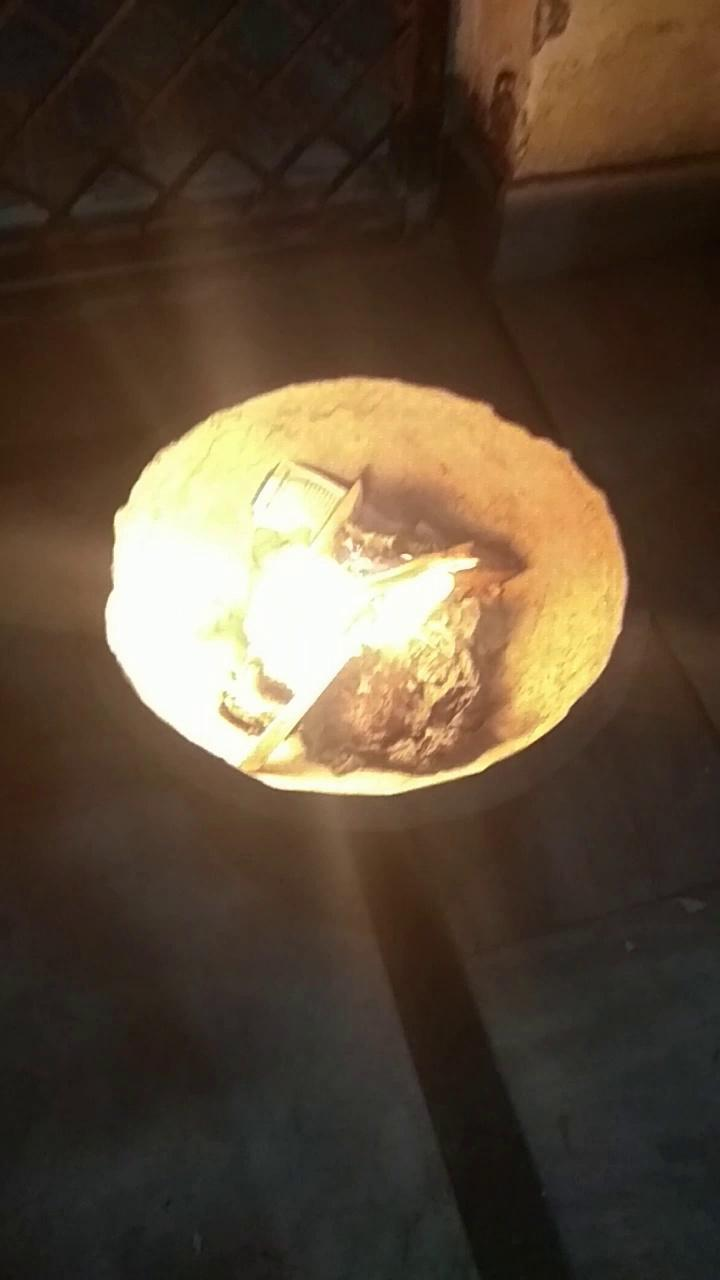fire: (191, 449, 509, 710)
